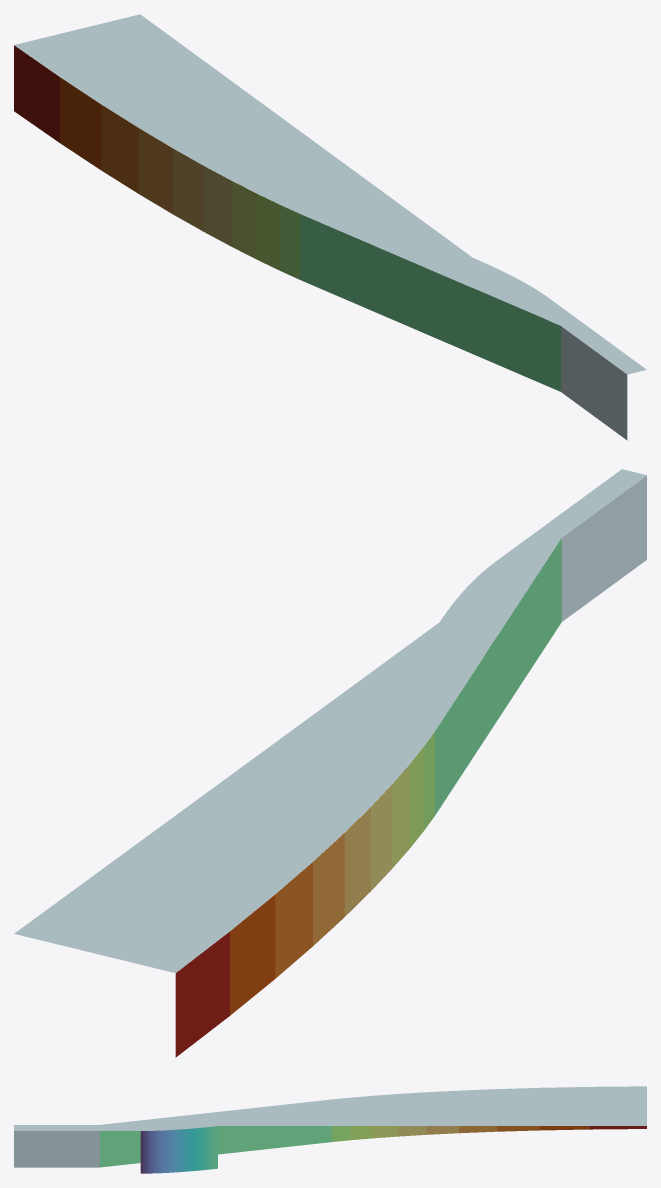
Rendered from scramjet_n10_m22.glb.
3 renders of one model, top to bottom at view 1: azimuth 30°, elevation 25°; view 2: azimuth 150°, elevation 25°; view 3: azimuth 270°, elevation 25°, orthographic. The views are drawn at different scales.
Visible parts, largest first — view 1: mesh0; view 2: mesh0; view 3: mesh0.
Boxes of the visible parts, x1,y1,x2,y2 form: mesh0: (14, 14, 646, 440); mesh0: (14, 469, 646, 1057); mesh0: (14, 1086, 646, 1173).
Bounding box in the file's own units: 1.12 × 0.5006 × 6.73.
